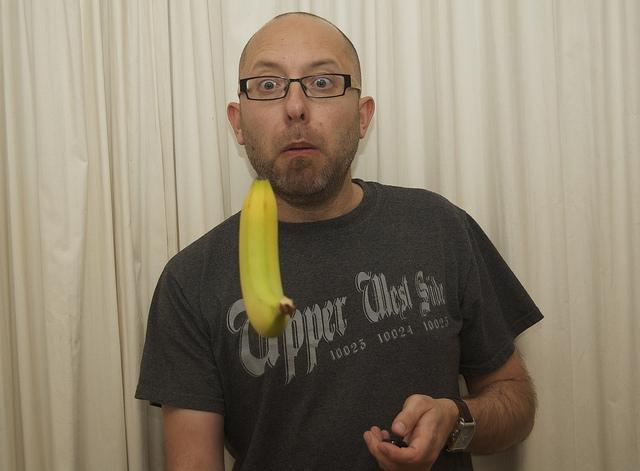banana: (238, 176, 296, 338)
